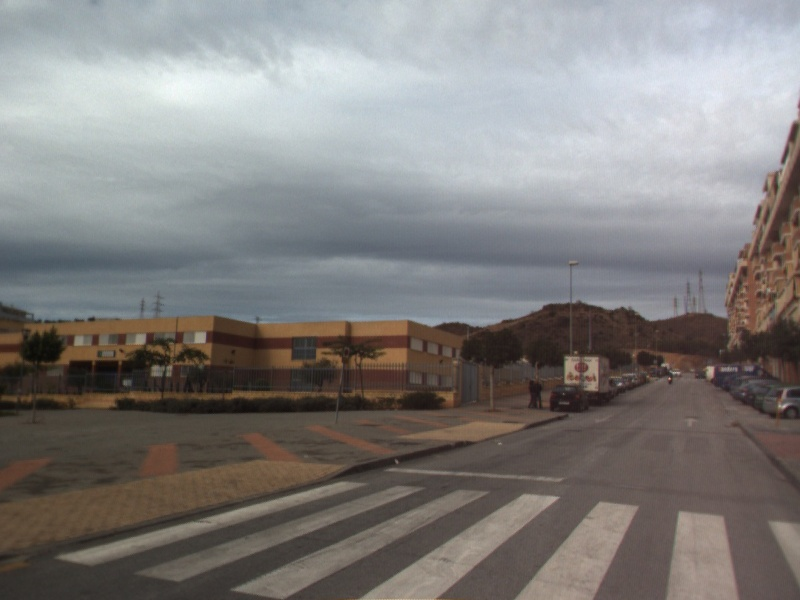STRAIGHT: (682, 415, 701, 429)
